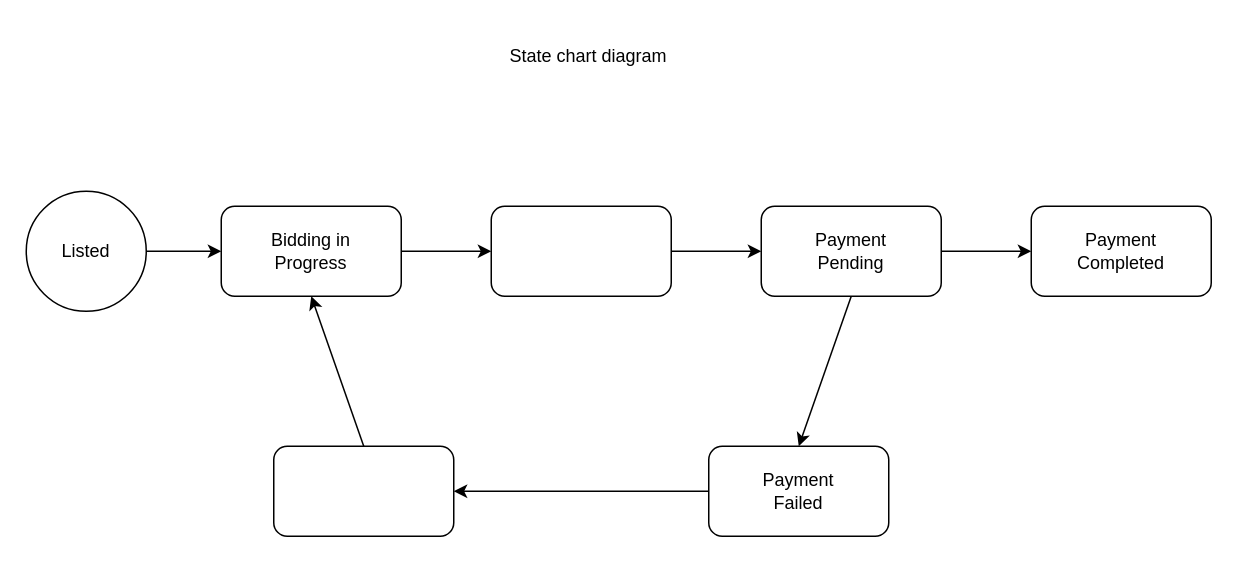
The diagram is 1238 pixels wide and 563 high, and some of its shapes have lost their labels. Each missing label, with the box of its shape:
Bid Closed: (490, 205, 671, 296)
Item Relisted: (272, 445, 454, 536)
